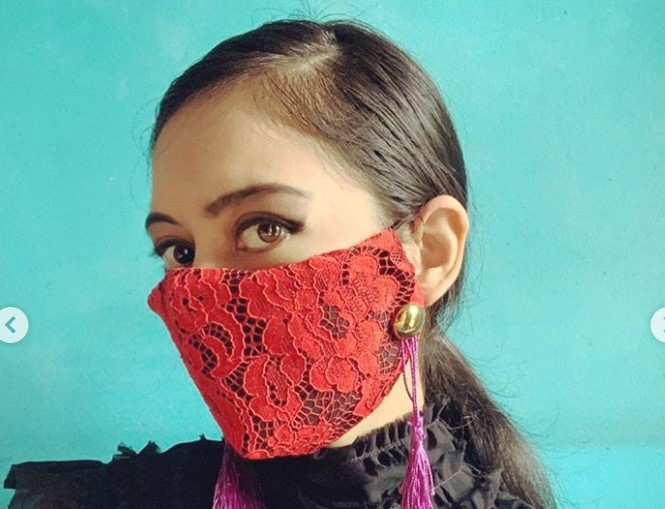face_with_mask: (137, 12, 458, 463)
